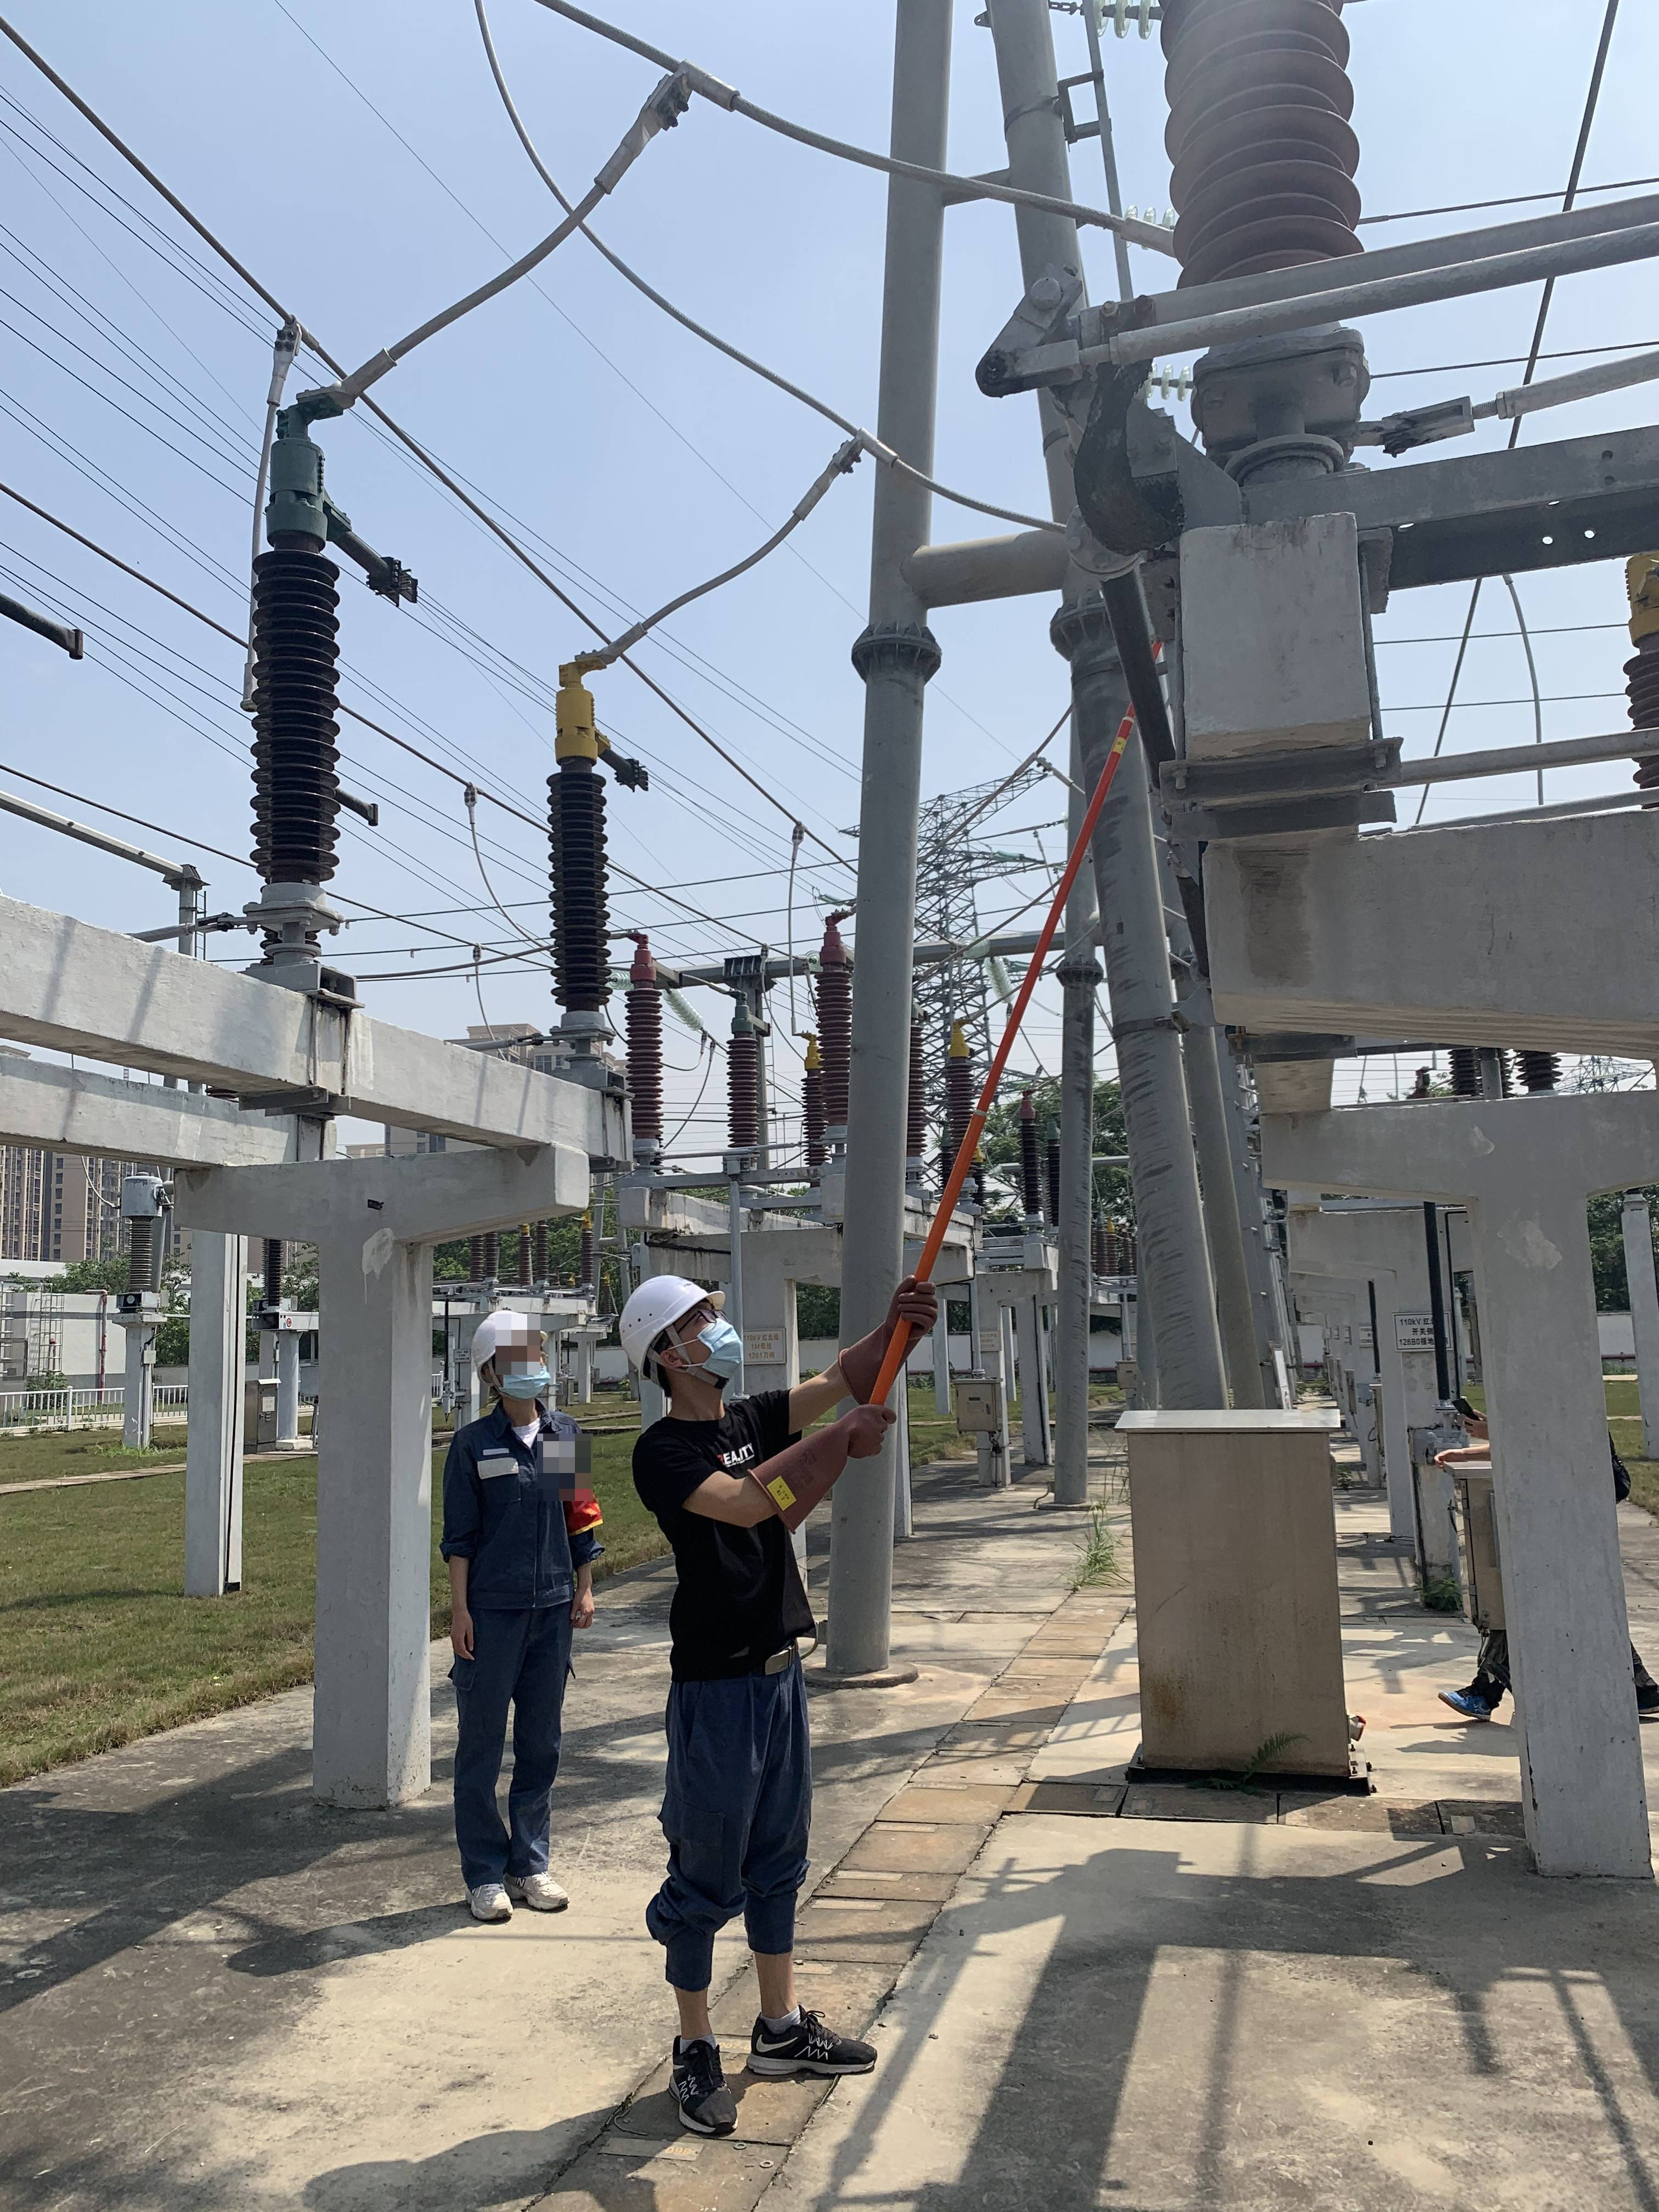downsuit: (653, 1679, 814, 1942), (450, 1630, 579, 1878)
upcloth: (641, 1409, 819, 1656)
upsuit: (441, 1409, 594, 1588)
wrongbottom: (660, 1933, 810, 2055)
wrongtop: (429, 1541, 493, 1665)
